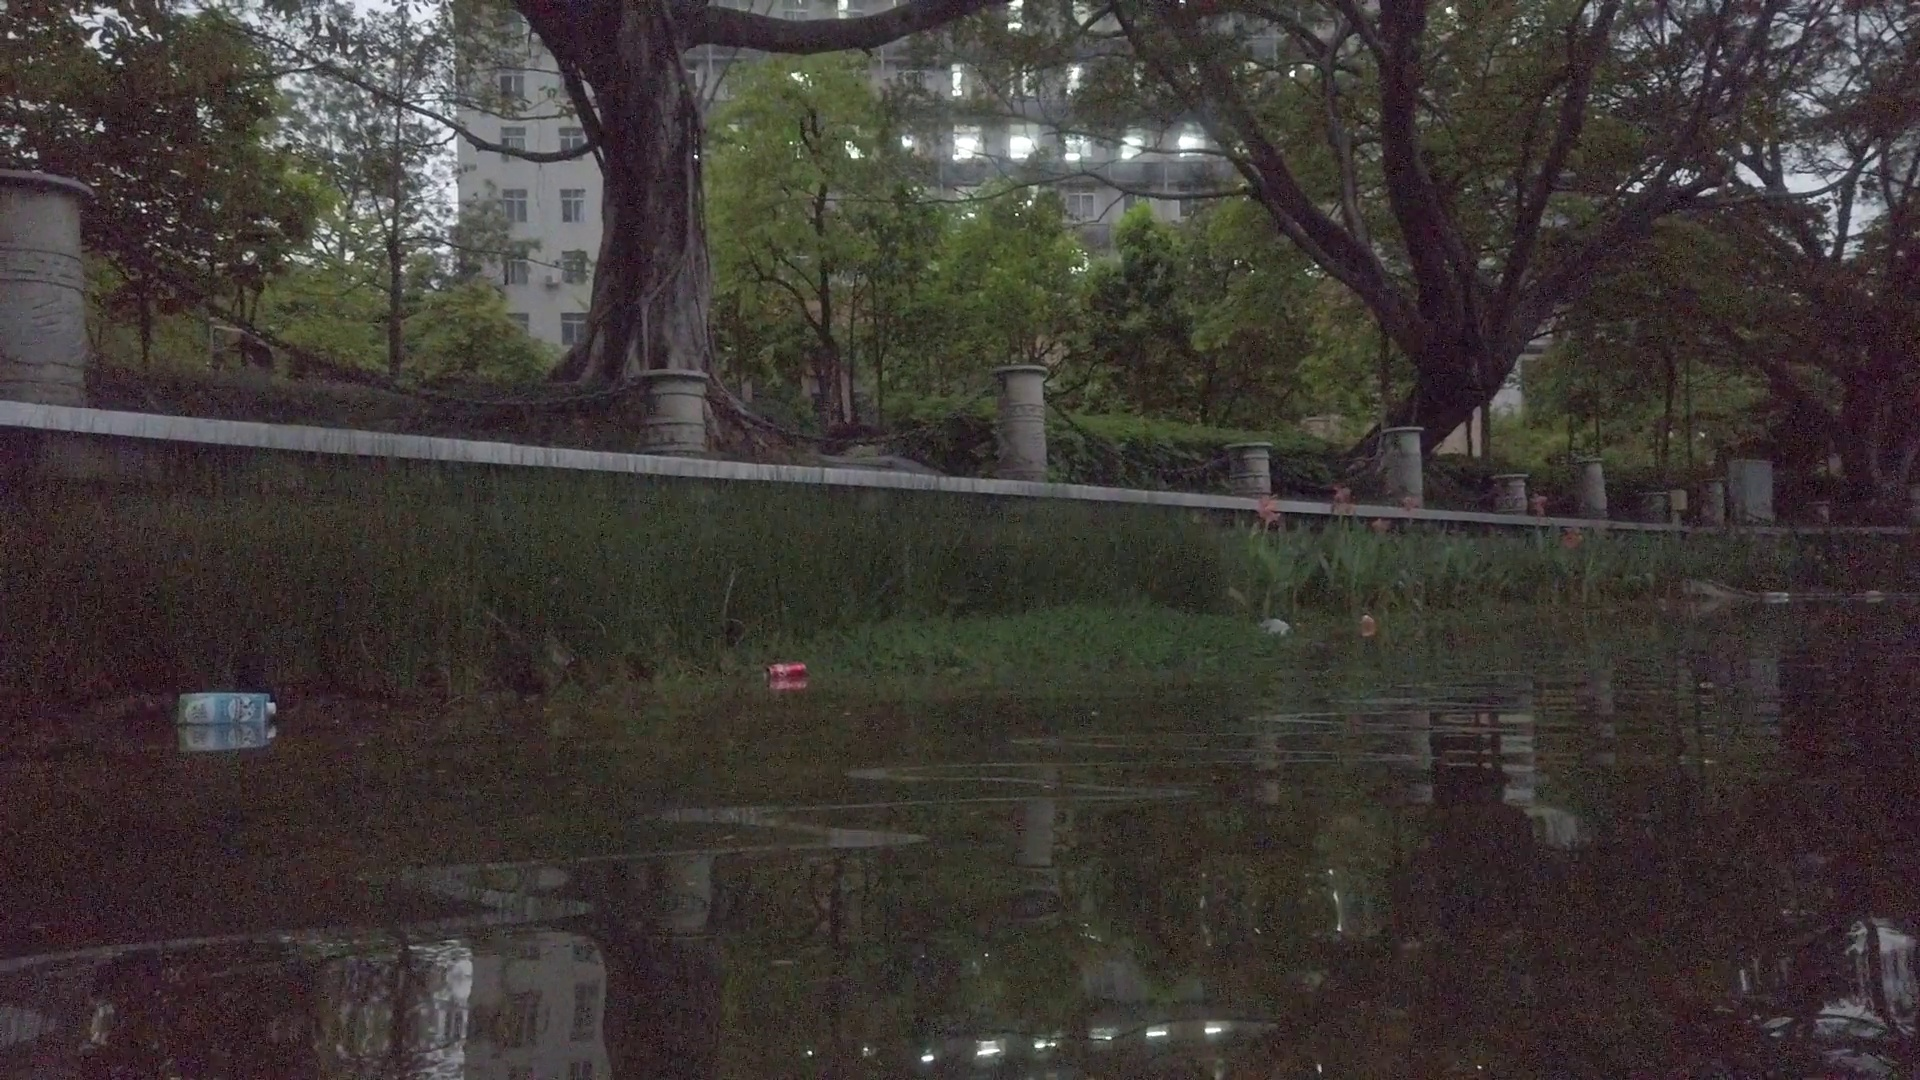bottle: (1254, 616, 1295, 658), (766, 659, 808, 680), (1360, 611, 1385, 634), (1764, 588, 1797, 605), (1859, 587, 1887, 607)
carton: (174, 690, 278, 727)
